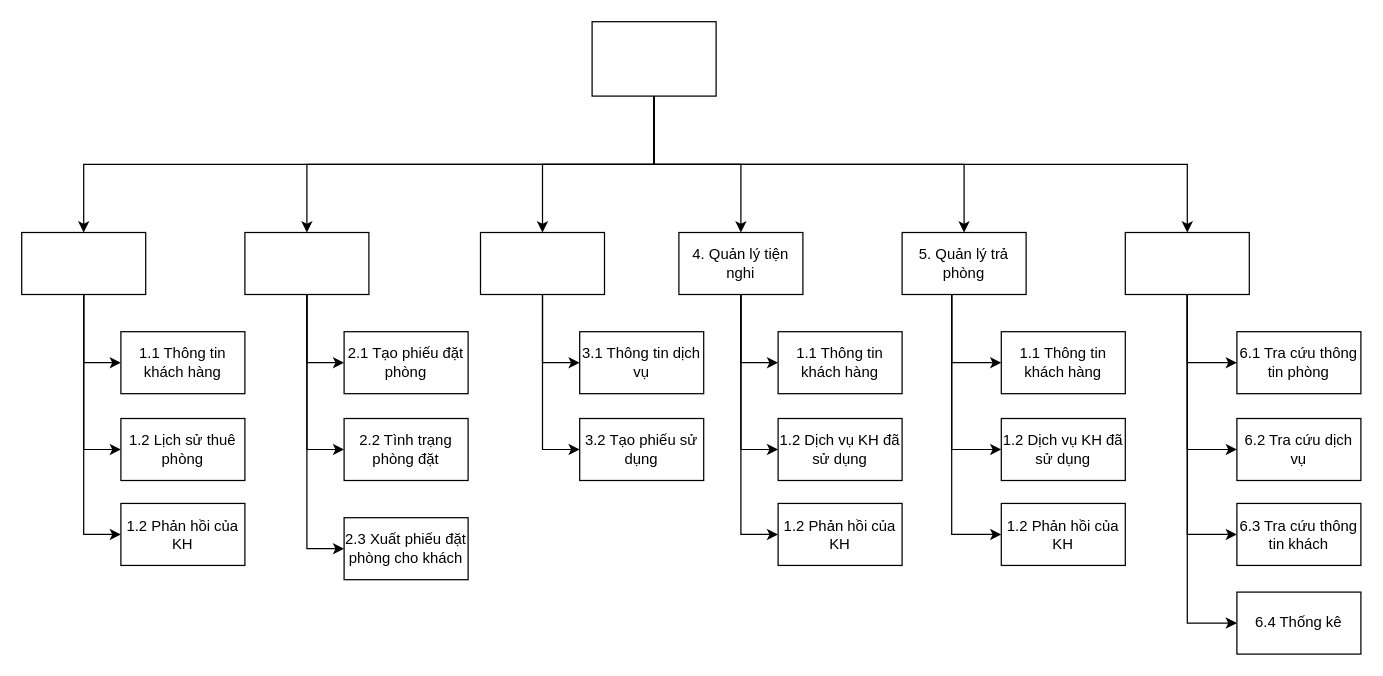
The diagram is 1383 pixels wide and 676 high, and some of its shapes have lost their labels. The centre of each missing label's shape, as x and y in pixels:
1. Quản lý khách hàng: the point at 83,262
2. Quản lý thuê phòng: the point at 306,262
3. Quản lý dịch vụ: the point at 541,262
6. Tra cứu và thống kê: the point at 1186,262
Quản lý khách sạn: the point at 653,58
